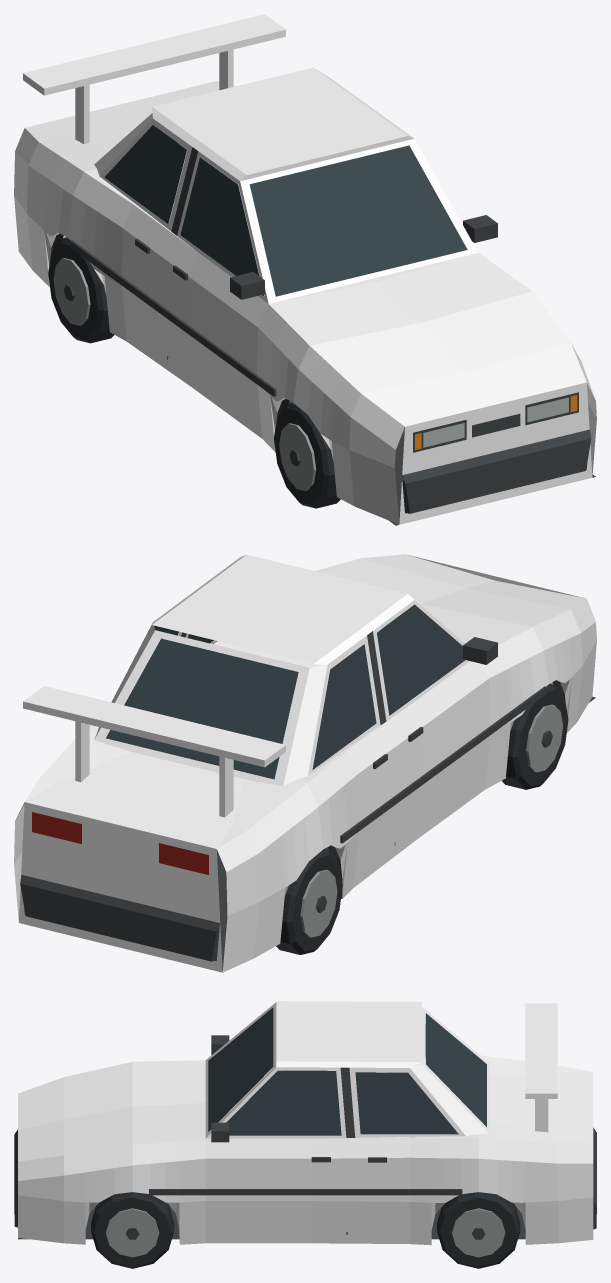
Rendered from tomoe_hatsukaze_corrida.glb.
3 renders of one model, top to bottom at view 1: azimuth 30°, elevation 25°; view 2: azimuth 150°, elevation 25°; view 3: azimuth 270°, elevation 25°, orthographic. The views are drawn at different scales.
Parts seen in each view (by area): view 1: tomoe_hatsukaze_corrida; view 2: tomoe_hatsukaze_corrida; view 3: tomoe_hatsukaze_corrida.
Part boxes in pixels (box(x1,y1,x2,y2)): tomoe_hatsukaze_corrida: box(14, 14, 596, 525); tomoe_hatsukaze_corrida: box(14, 554, 596, 972); tomoe_hatsukaze_corrida: box(14, 1001, 596, 1268).
Size of the model in its own units: 1.63 by 1.44 by 3.94.
8 materials, 1 textured.
